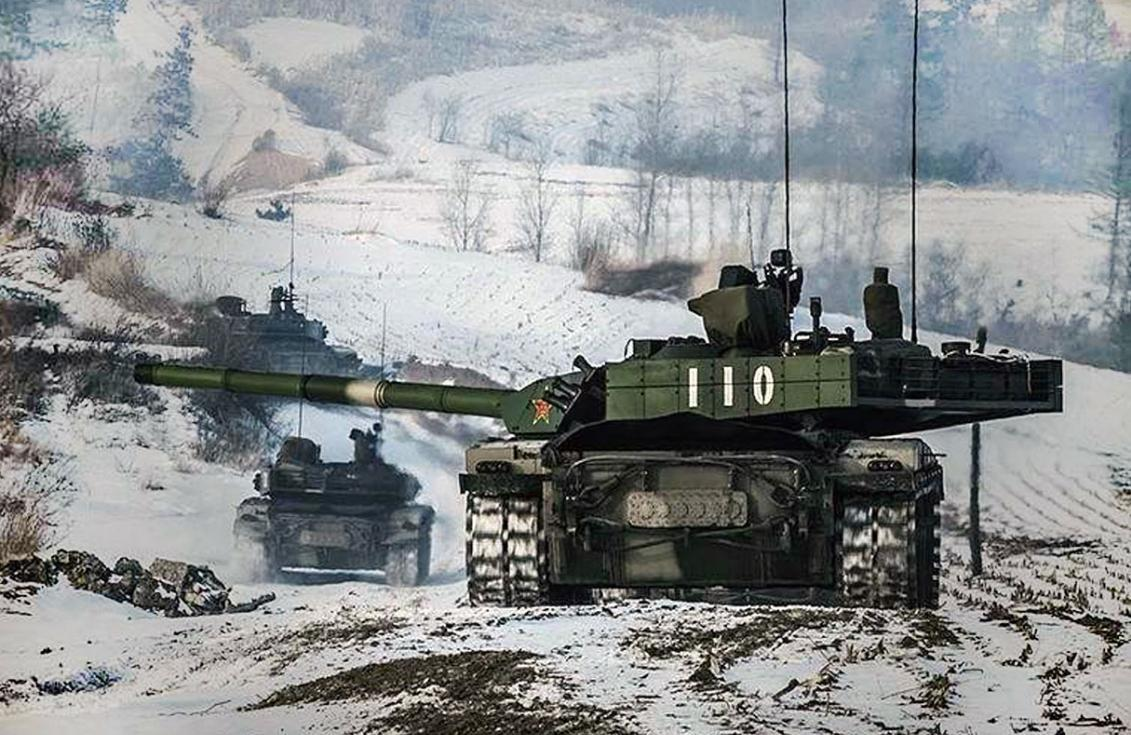tank: (130, 258, 1066, 616), (231, 421, 436, 589), (199, 280, 364, 383)
